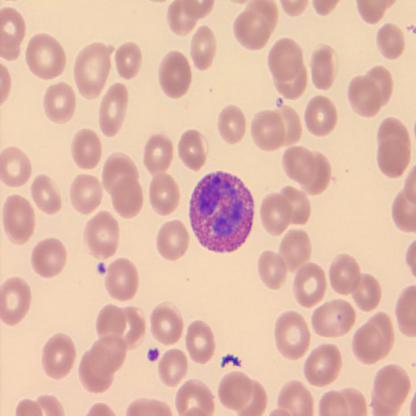Eosinophil: (188, 171, 254, 252)
